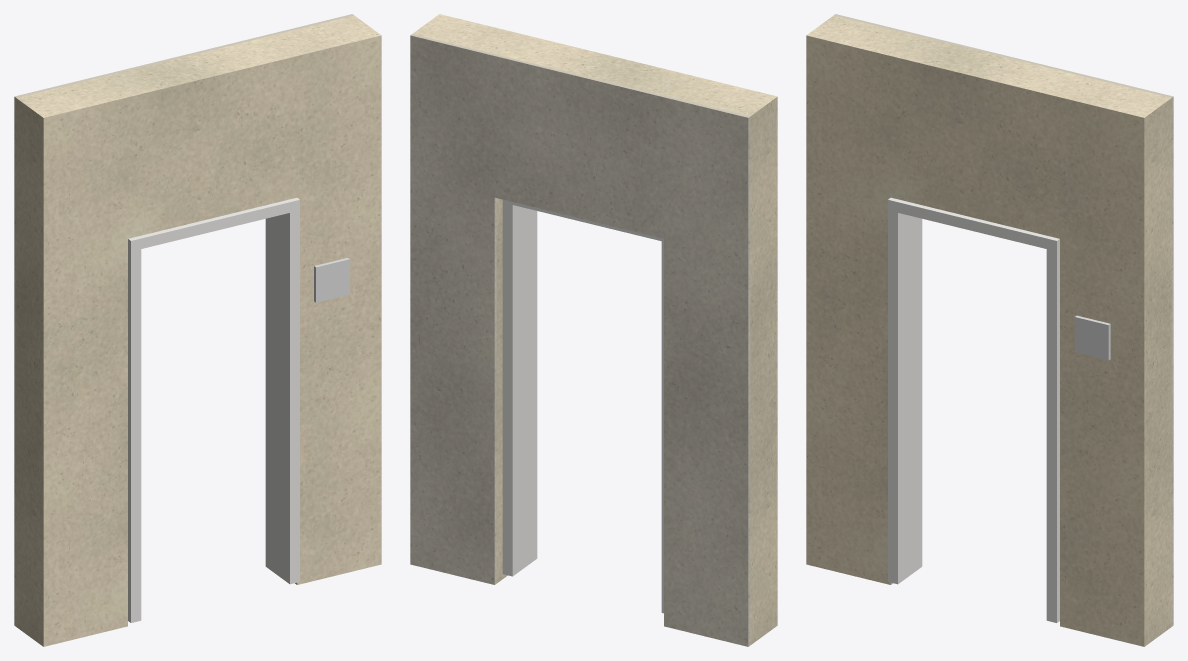
File: wall_up_door.glb
3 renders of one model, left to right at view 1: azimuth 30°, elevation 25°; view 2: azimuth 150°, elevation 25°; view 3: azimuth 330°, elevation 25°, orthographic.
Parts seen in each view (by area): view 1: wall_up_door_stucco, wall_up_door_frame, wall_up_door_plaster, wall_up_door_metal; view 2: wall_up_door_plaster, wall_up_door_stucco, wall_up_door_frame; view 3: wall_up_door_stucco, wall_up_door_frame, wall_up_door_plaster, wall_up_door_metal.
Part boxes in pixels (x1,y1,x2,y2): wall_up_door_stucco: (16, 15, 381, 646); wall_up_door_frame: (128, 197, 299, 622); wall_up_door_plaster: (14, 14, 353, 626); wall_up_door_metal: (314, 258, 349, 302); wall_up_door_plaster: (410, 34, 750, 646); wall_up_door_stucco: (412, 14, 777, 645); wall_up_door_frame: (502, 199, 663, 613); wall_up_door_stucco: (806, 15, 1171, 646); wall_up_door_frame: (888, 197, 1059, 622); wall_up_door_plaster: (834, 14, 1173, 626); wall_up_door_metal: (1075, 315, 1110, 360).
Size of the model in its own units: 2 by 2.99 by 0.33.
4 materials, 2 textured.
